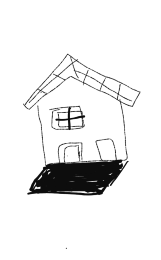closed_window: (46, 102, 90, 131)
door: (90, 135, 125, 164), (52, 139, 87, 166)
roof: (13, 53, 145, 110)
shadow: (26, 159, 127, 197)
wall: (34, 98, 132, 165)
